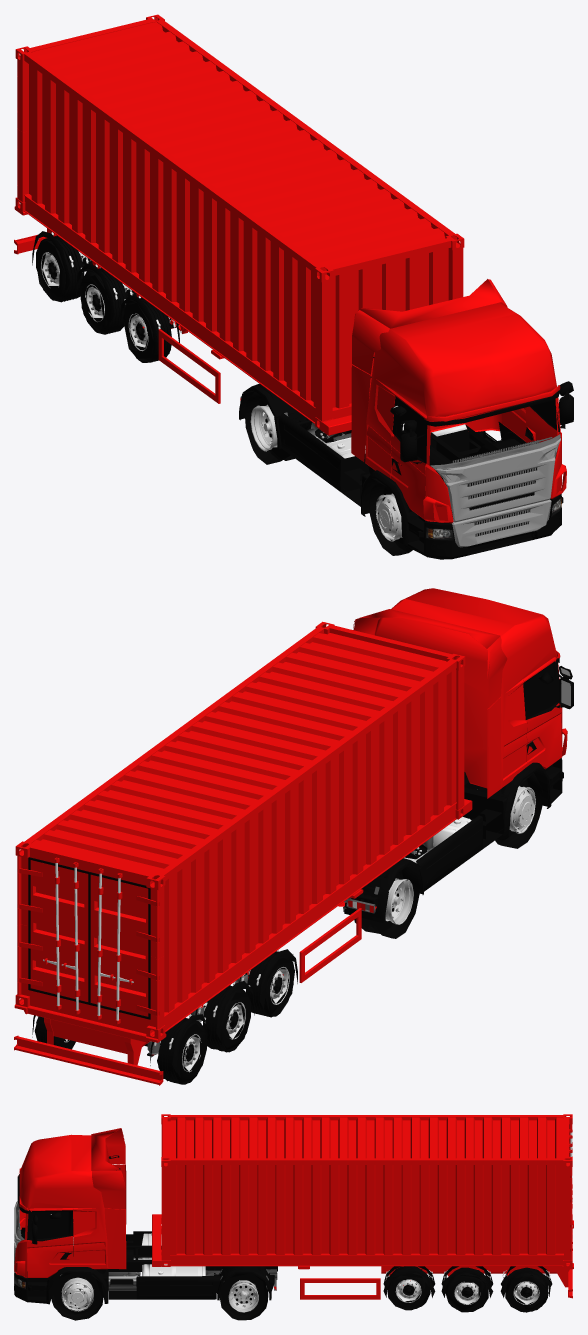
The model's file is scania.glb.
3 renders of one model, top to bottom at view 1: azimuth 30°, elevation 25°; view 2: azimuth 150°, elevation 25°; view 3: azimuth 270°, elevation 25°, orthographic. The views are drawn at different scales.
Parts seen in each view (by area): view 1: Object_852, Object_105, Object_37, Object_237, Object_68, Object_41, Object_277, Object_329, Object_29, Object_358; view 2: Object_852, Object_37, Object_105, Object_358, Object_68, Object_41, Object_329, Object_29; view 3: Object_852, Object_37, Object_105, Object_68, Object_41, Object_329, Object_358, Object_29, Object_35.
Boxes of the visible parts, x1,y1,x2,y2 form: Object_852: (14,14,464,435); Object_105: (240,279,566,523); Object_37: (32,231,573,559); Object_237: (434,438,560,547); Object_68: (354,310,559,520); Object_41: (250,404,402,541); Object_277: (452,440,539,536); Object_329: (41,252,344,443); Object_29: (240,396,560,468); Object_358: (38,232,466,458); Object_852: (14,621,472,1085); Object_37: (28,654,573,1084); Object_105: (354,588,567,909); Object_358: (36,816,471,1049); Object_68: (353,619,561,769); Object_41: (385,786,535,924); Object_329: (64,847,427,1072); Object_29: (147,818,469,1054); Object_852: (152,1114,573,1299); Object_37: (14,1124,569,1320); Object_105: (14,1128,276,1289); Object_68: (27,1129,125,1277); Object_41: (61,1237,258,1312); Object_329: (395,1279,539,1304); Object_358: (141,1132,572,1286); Object_29: (16,1202,277,1290); Object_35: (62,1280,256,1311).
Size of the model in its own units: 1.16 by 1.55 by 4.89.
Materials: 26 (5 with a texture image).
